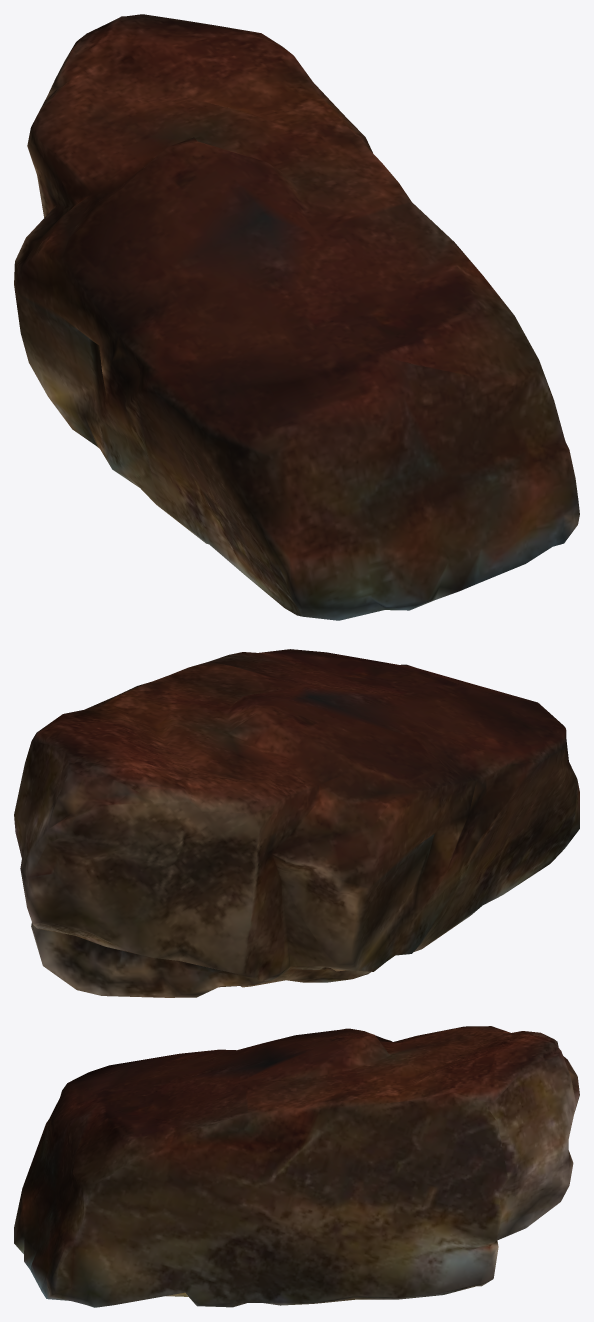
File: rock.glb
The picture shows the model from 3 angles, top to bottom: view 1: azimuth 30°, elevation 25°; view 2: azimuth 150°, elevation 25°; view 3: azimuth 270°, elevation 25°; orthographic projection. The views are drawn at different scales.
Visible parts, largest first — view 1: rock_07; view 2: rock_07; view 3: rock_07.
Part boxes in pixels (x1,y1,x2,y2): rock_07: (14,14,579,620); rock_07: (14,649,579,997); rock_07: (14,1026,579,1307).
Size of the model in its own units: 0.1675 by 0.1434 by 0.3194.
1 material, 1 textured.
